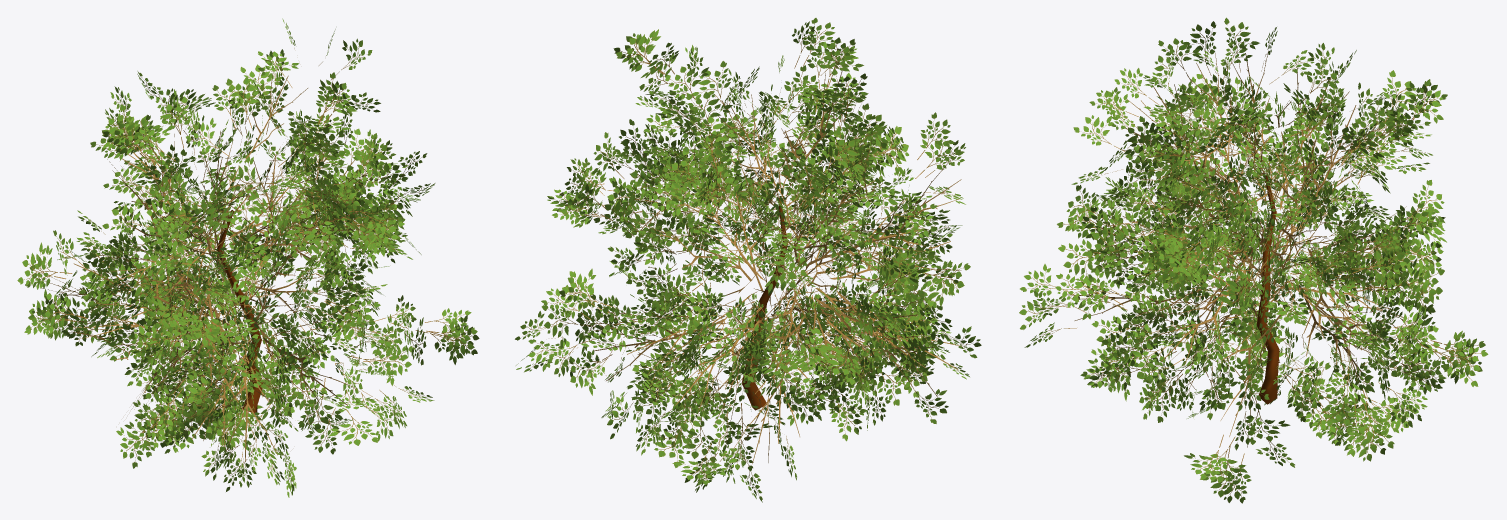
Rendered from SM_Bush.fbx.
3 renders of one model, left to right at view 1: azimuth 30°, elevation 25°; view 2: azimuth 150°, elevation 25°; view 3: azimuth 270°, elevation 25°, orthographic. The views are drawn at different scales.
Visible parts, largest first — view 1: polySurface602; view 2: polySurface602; view 3: polySurface602.
Part boxes in pixels (bbox=[...]): polySurface602: bbox=[17, 18, 479, 497]; polySurface602: bbox=[515, 18, 981, 502]; polySurface602: bbox=[1019, 17, 1488, 503].
Size of the model in its own units: 150 by 153 by 154.
